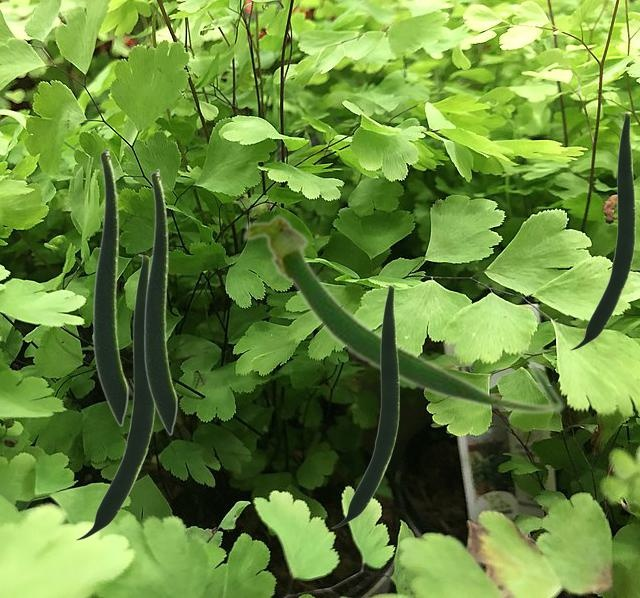french_bean: (240, 211, 564, 415), (75, 254, 154, 539), (331, 284, 398, 527), (569, 112, 634, 349), (92, 147, 128, 426), (143, 168, 177, 435)
